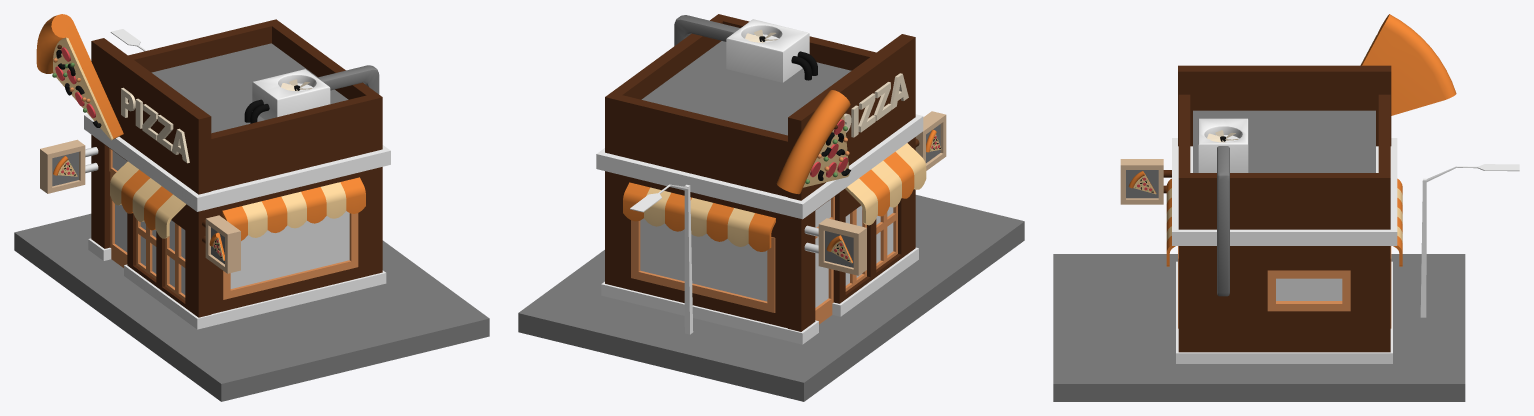
The model's file is fastFood.fbx.
The picture shows the model from 3 angles, left to right: view 1: azimuth 30°, elevation 25°; view 2: azimuth 150°, elevation 25°; view 3: azimuth 270°, elevation 25°; orthographic projection. The views are drawn at different scales.
Parts seen in each view (by area): view 1: Cube.003, Plane.047, Plane.007, Plane.283, Plane.297, Plane.279, Plane.1059, Plane.298, Plane.334, Plane.282, roof Ac.002, Plane.293 (+5 smaller); view 2: Cube.003, Plane.047, Plane.007, Plane.283, Plane.297, Plane.279, Plane.1059, Plane.298, Plane.334, Plane.282, roof Ac.002, Plane.293 (+6 smaller); view 3: Cube.003, Plane.047, Plane.007, Plane.297, Plane.298, Plane.279, Plane.282, Plane.334, roof Ac.002, Plane.024, Plane.290, Plane.1060 (+2 smaller).
Boxes of the visible parts, box(x1,y1,x2,y2) form: Cube.003: box(14, 213, 489, 401); Plane.047: box(128, 19, 382, 314); Plane.007: box(91, 38, 211, 317); Plane.283: box(110, 161, 365, 240); Plane.297: box(151, 43, 348, 133); Plane.279: box(84, 114, 390, 211); Plane.1059: box(230, 211, 349, 288); Plane.298: box(36, 14, 224, 260); Plane.334: box(109, 148, 358, 300); Plane.282: box(88, 238, 386, 329); roof Ac.002: box(252, 69, 330, 119); Plane.293: box(40, 139, 85, 193); Cube.003: box(518, 195, 1024, 401); Plane.047: box(605, 14, 876, 328); Plane.007: box(788, 34, 915, 331); Plane.283: box(623, 143, 926, 251); Plane.297: box(641, 41, 851, 135); Plane.279: box(596, 114, 923, 219); Plane.1059: box(640, 218, 767, 301); Plane.298: box(776, 90, 941, 263); Plane.334: box(631, 196, 897, 324); Plane.282: box(601, 247, 918, 344); roof Ac.002: box(726, 19, 809, 82); Plane.293: box(818, 218, 866, 275); Cube.003: box(1053, 254, 1465, 401); Plane.047: box(1178, 94, 1390, 352); Plane.007: box(1178, 65, 1391, 146); Plane.297: box(1193, 110, 1375, 172); Plane.298: box(1128, 14, 1456, 194); Plane.279: box(1172, 138, 1397, 245); Plane.282: box(1176, 261, 1392, 363); Plane.334: box(1178, 246, 1391, 328); roof Ac.002: box(1198, 118, 1248, 172); Plane.024: box(1217, 146, 1229, 296); Plane.290: box(1120, 159, 1163, 204); Plane.1060: box(1276, 278, 1342, 300).
Size of the model in its own units: 0.6278 by 0.5593 by 0.9068.
